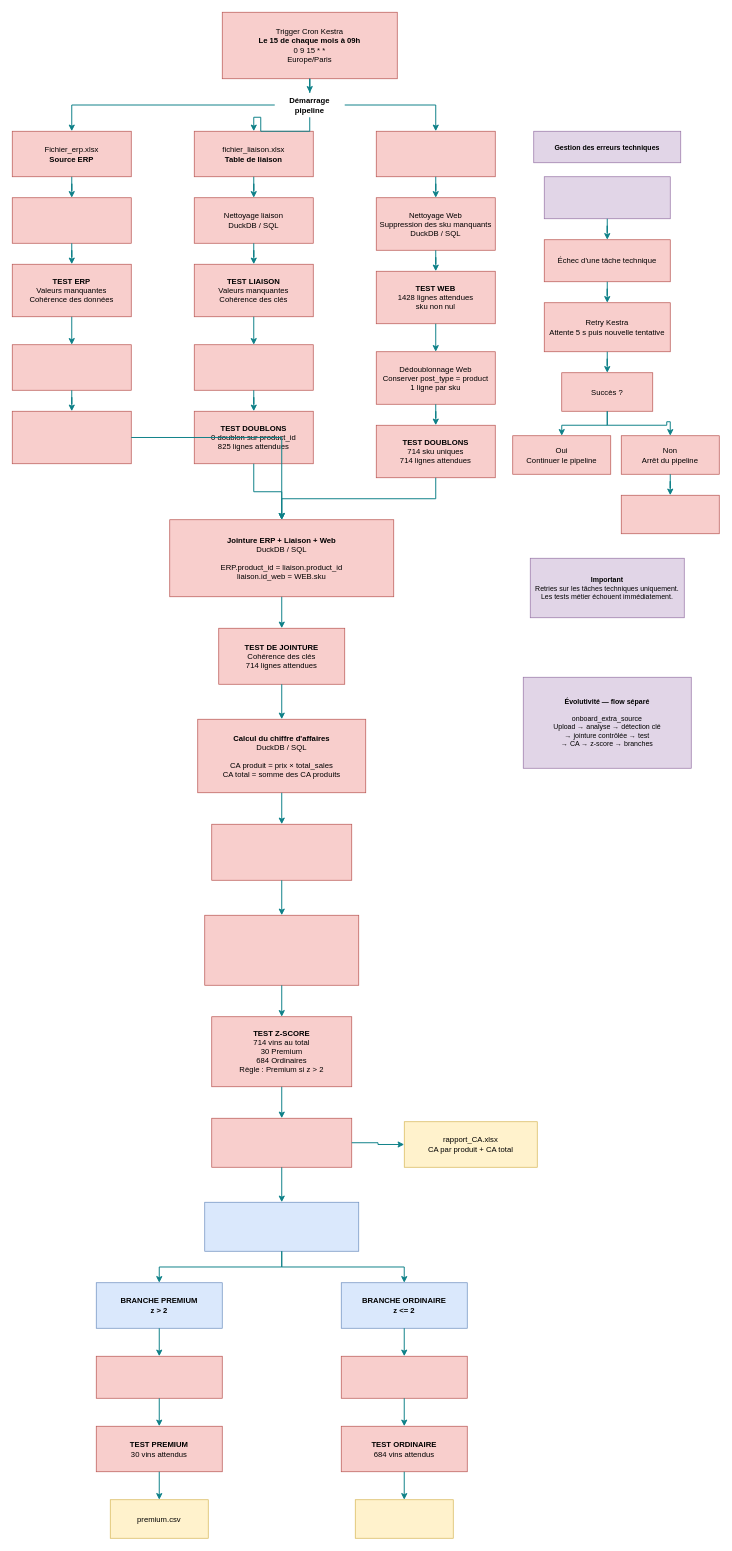
This 732x1551 diagram has some shape labels left out. Each missing label, with the box of its shape:
Calcul du z-score sur le prix Python / pandas z = (prix - moyenne) / écart-type: (204, 915, 359, 985)
Dédoublonnage ERP DuckDB / SQL: (12, 344, 131, 390)
Dédoublonnage liaison DuckDB / SQL: (194, 344, 313, 390)
Erreur visible dans Kestra: (621, 495, 719, 534)
Exemple : service / DuckDB temporairement indisponible: (544, 176, 670, 219)
Export ordinaire Python: (341, 1356, 467, 1398)
Export premium Python: (96, 1356, 222, 1398)
Export rapport CA Python / pandas: (211, 1118, 352, 1167)
Fichier_web.xlsx Source WEB: (376, 131, 495, 177)
Nettoyage ERP DuckDB / SQL: (12, 197, 131, 243)
ordinaires.csv: (355, 1499, 453, 1538)
PARALLEL KESTRA 2 branches indépendantes: (204, 1202, 359, 1251)
TEST CHIFFRE D'AFFAIRES CA total attendu : 70 568,60 €: (211, 824, 352, 880)
TEST DOUBLONS 0 doublon 825 lignes attendues: (12, 411, 131, 464)
